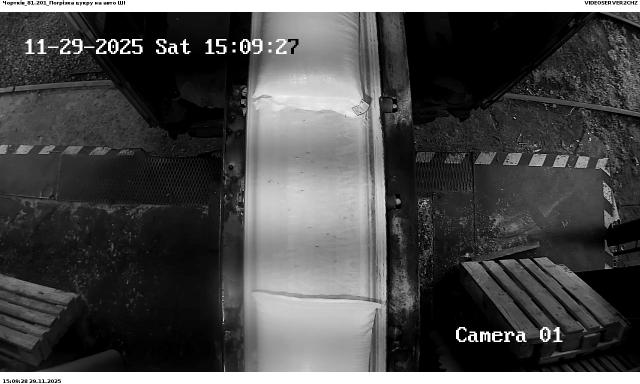bag: (254, 12, 370, 115), (251, 291, 382, 372)
